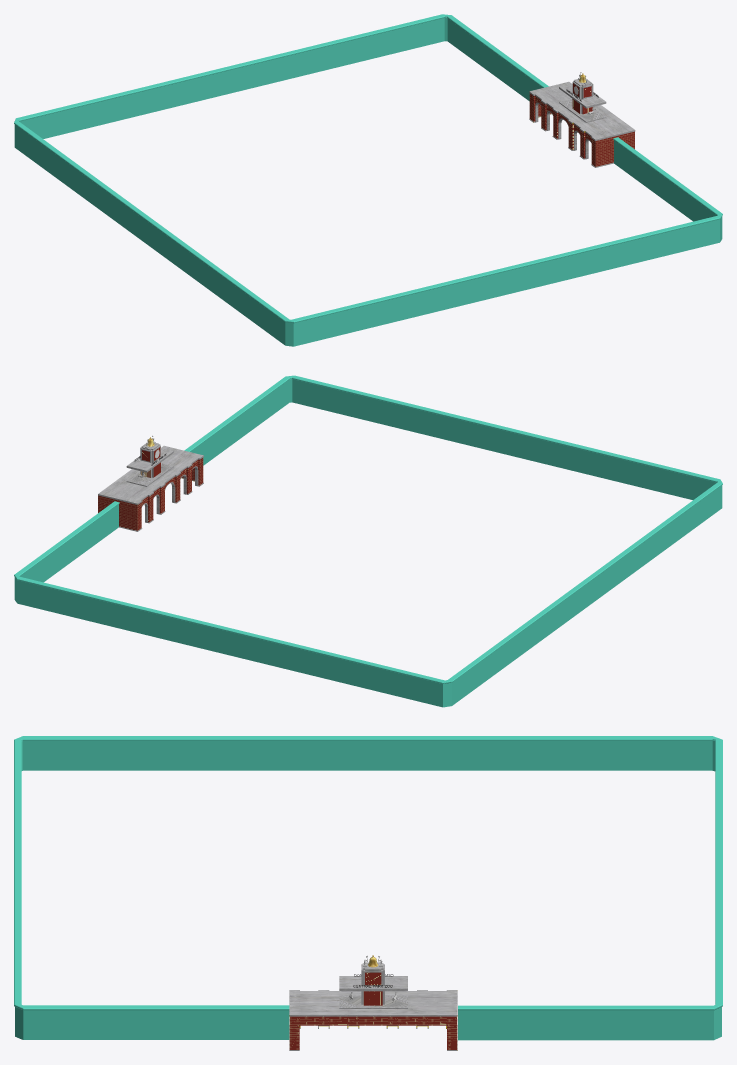
Rendered from entrada_completa.obj.
The picture shows the model from 3 angles, top to bottom: view 1: azimuth 30°, elevation 25°; view 2: azimuth 150°, elevation 25°; view 3: azimuth 270°, elevation 25°; orthographic projection. The views are drawn at different scales.
Parts seen in each view (by area): view 1: muro_exterior, Entrada; view 2: muro_exterior, Entrada; view 3: muro_exterior, Entrada.
Part boxes in pixels (left/top/right/bottom): muro_exterior: left=14, top=14, right=722, bottom=346; Entrada: left=529, top=72, right=635, bottom=167; muro_exterior: left=14, top=375, right=722, bottom=707; Entrada: left=98, top=435, right=203, bottom=531; muro_exterior: left=14, top=736, right=722, bottom=1040; Entrada: left=289, top=955, right=457, bottom=1050.
Bounding box in the file's own units: 680 × 93.64 × 720.
